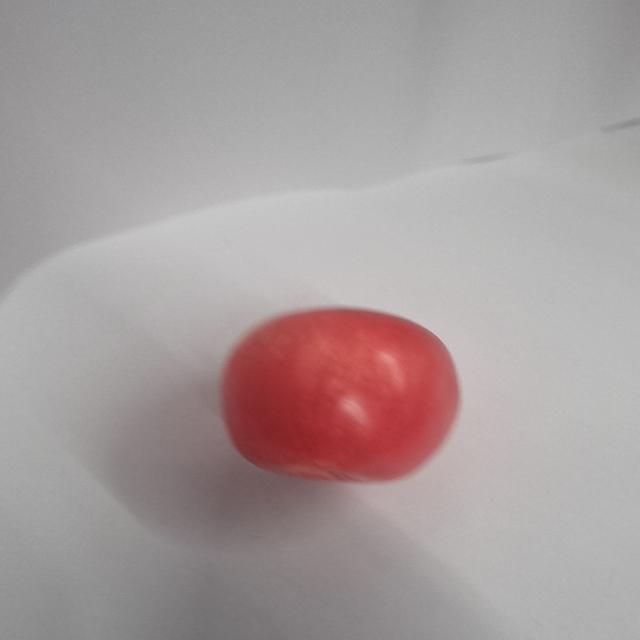apple: (224, 306, 461, 482)
